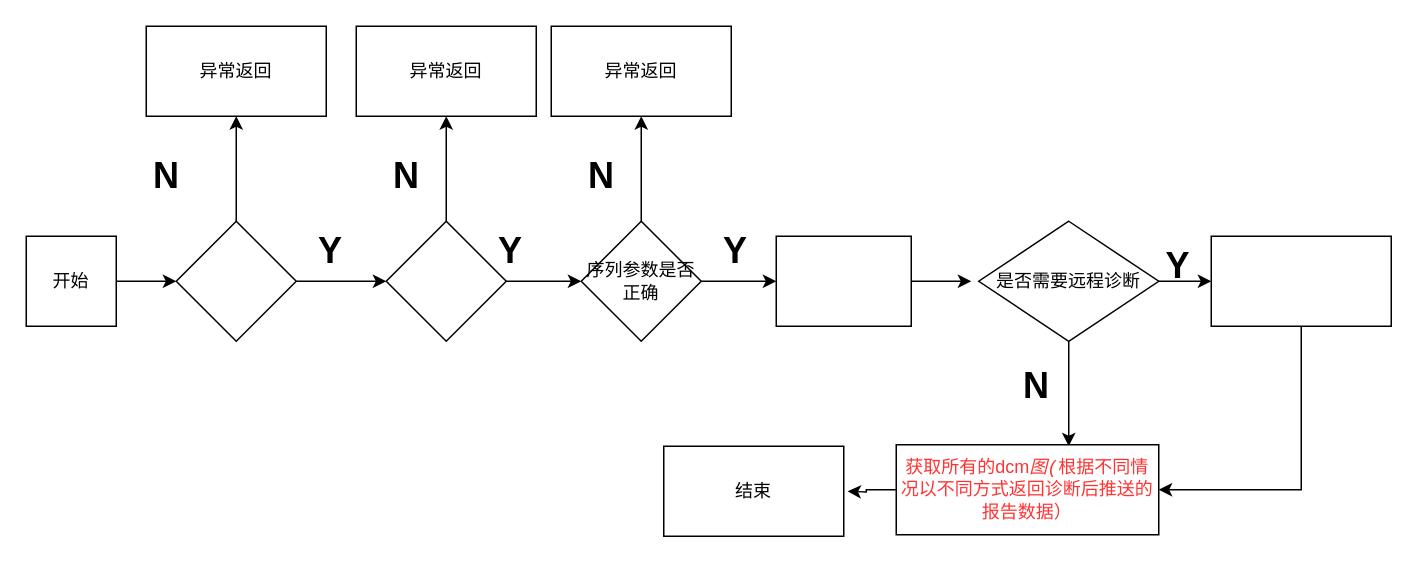
Image size: 1418x563. Some labels were removed from this diagram. The shapes that lost their labels are listed below. From the top down, each one's centre as x and y in pixels, then its label:
At (x=235, y=280): "校验上传参数格式".
At (x=445, y=280): "验证签名".
At (x=843, y=280): "入库保存".
At (x=1300, y=280): "远程诊断异步任务获取结果并保存数据库".
